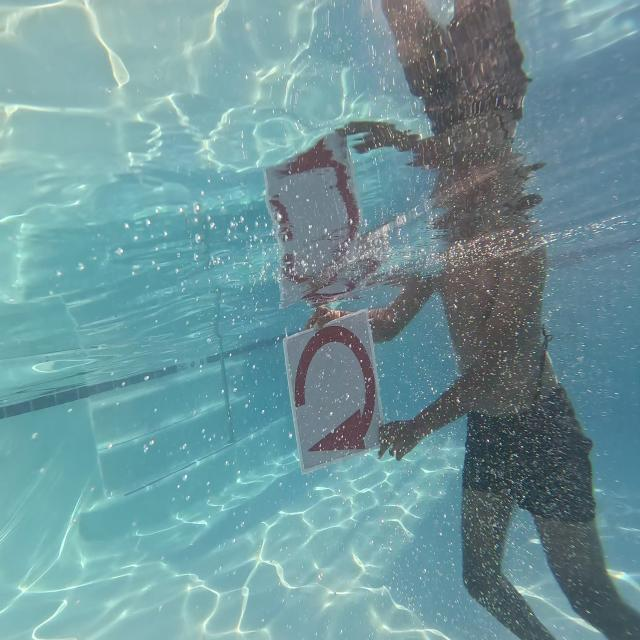red_side: (278, 322, 394, 465)
